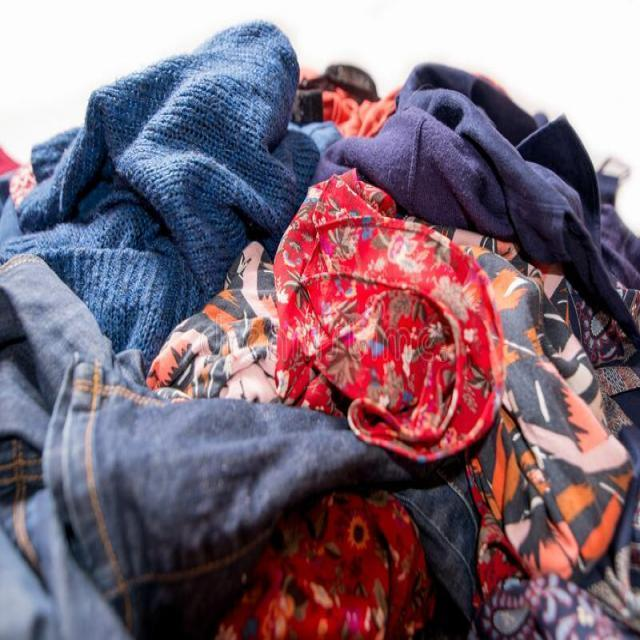clothes: (62, 220, 487, 612)
